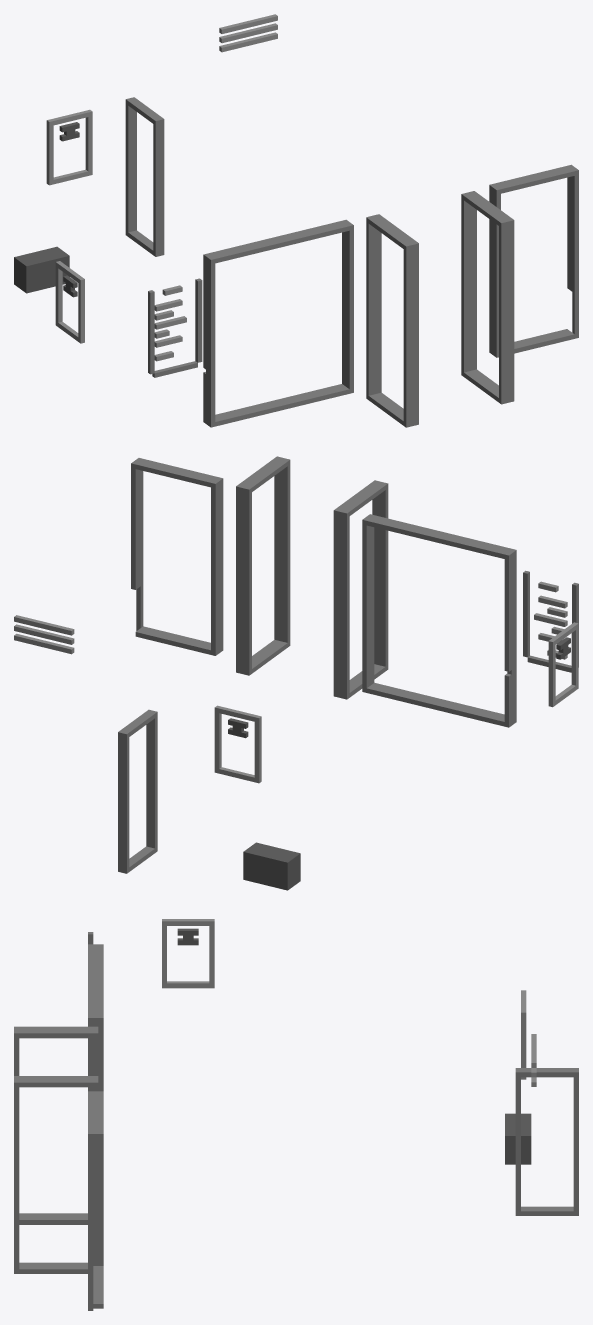
Rendered from door frame.obj.
The picture shows the model from 3 angles, top to bottom: view 1: azimuth 30°, elevation 25°; view 2: azimuth 150°, elevation 25°; view 3: azimuth 270°, elevation 25°; orthographic projection. The views are drawn at different scales.
Visible parts, largest first — view 1: door frame; view 2: door frame; view 3: door frame.
Part boxes in pixels (<box>): door frame: <box>14,14,578,427</box>; door frame: <box>14,456,578,890</box>; door frame: <box>14,919,578,1310</box>.
Size of the model in its own units: 107 by 45 by 107.
Materials: 1 (1 with a texture image).
